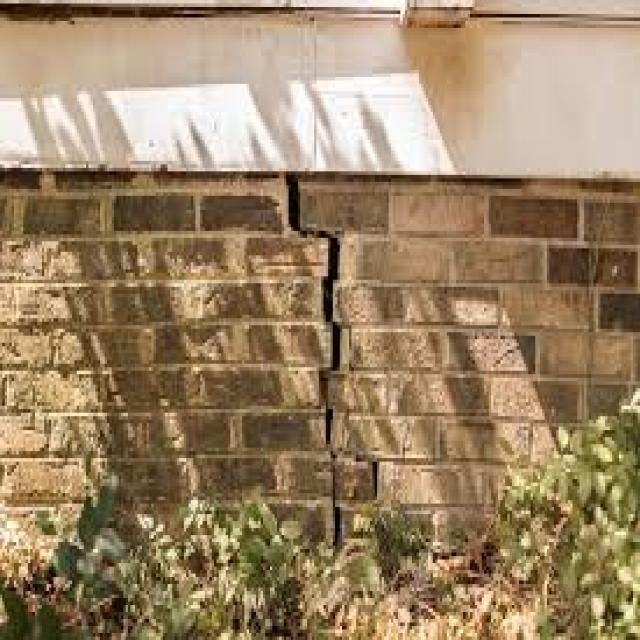Crack: (280, 168, 380, 552)
